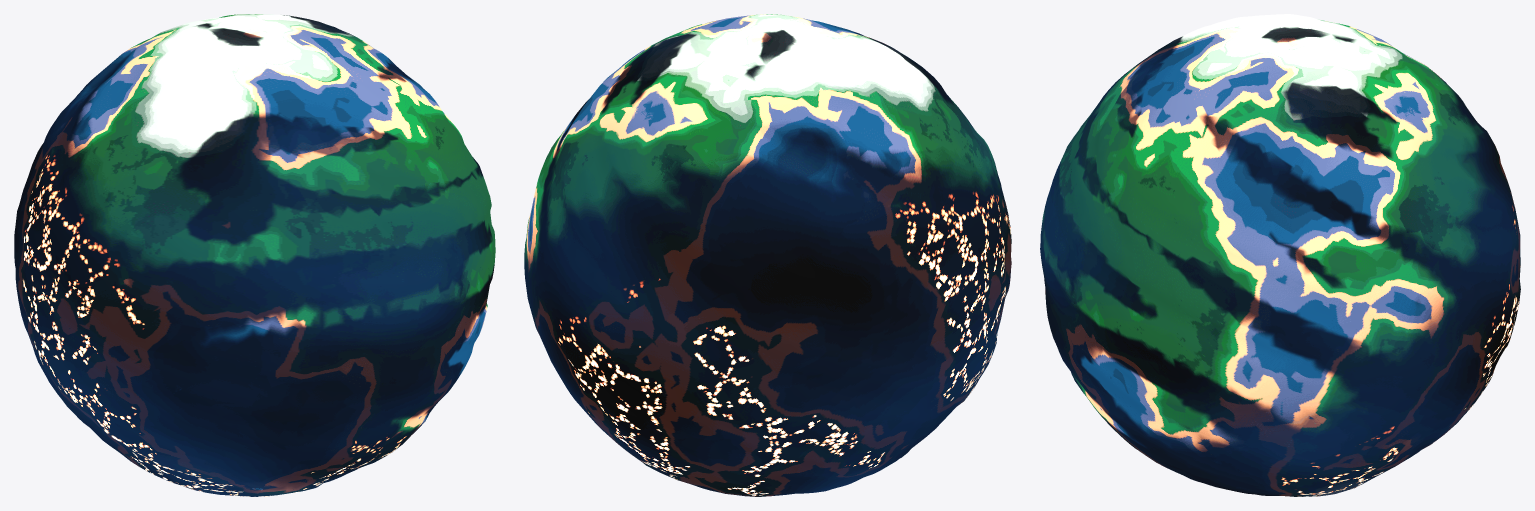
3 views of the same model, side by side, from view 1: azimuth 30°, elevation 25°; view 2: azimuth 150°, elevation 25°; view 3: azimuth 270°, elevation 25° (orthographic).
Visible parts, largest first — view 1: Planet_2; view 2: Planet_2; view 3: Planet_2.
Part boxes in pixels (box(x1,y1,x2,y2)): Planet_2: box(14, 14, 495, 496); Planet_2: box(524, 14, 1011, 496); Planet_2: box(1040, 14, 1520, 496).
Size of the model in its own units: 1.32 by 1.31 by 1.32.
1 material, 1 textured.
